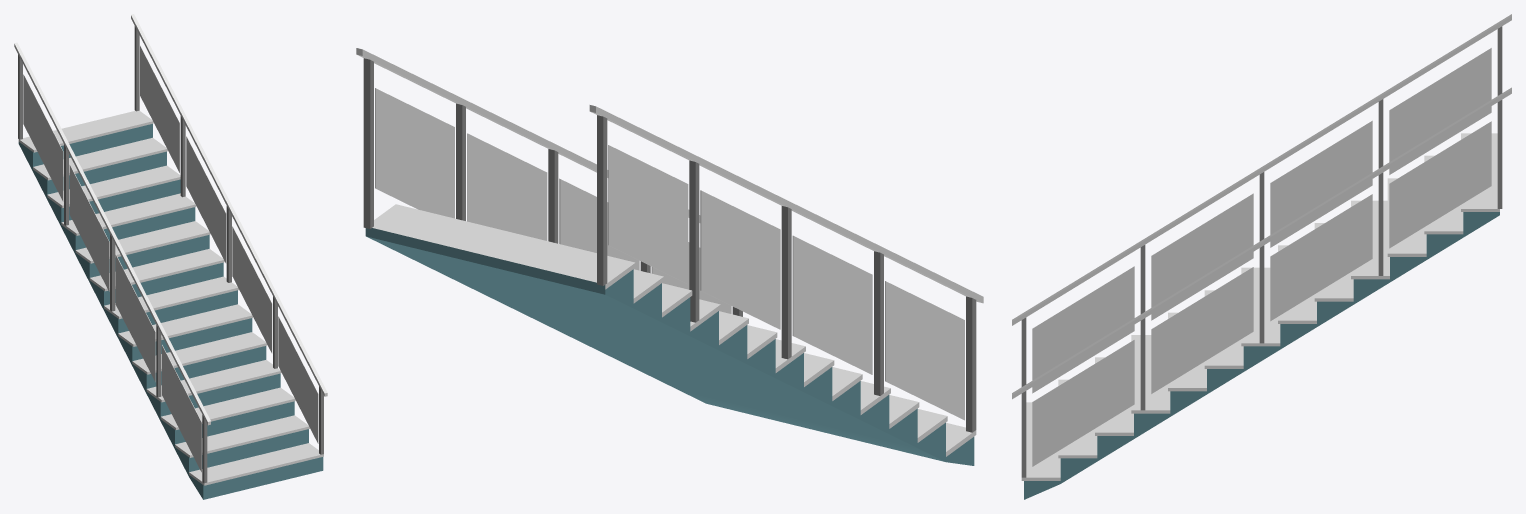
Rendered from uploads_files_3197902_stairs.fbx.
3 views of the same model, side by side, from view 1: azimuth 30°, elevation 25°; view 2: azimuth 150°, elevation 25°; view 3: azimuth 270°, elevation 25° (orthographic). The views are drawn at different scales.
Visible parts, largest first — view 1: Stair; view 2: Stair; view 3: Stair.
Boxes of the visible parts, x1,y1,x2,y2 form: Stair: (14,14,327,499); Stair: (356,48,983,465); Stair: (1012,14,1511,499).
Size of the model in its own units: 150 by 381 by 420.
